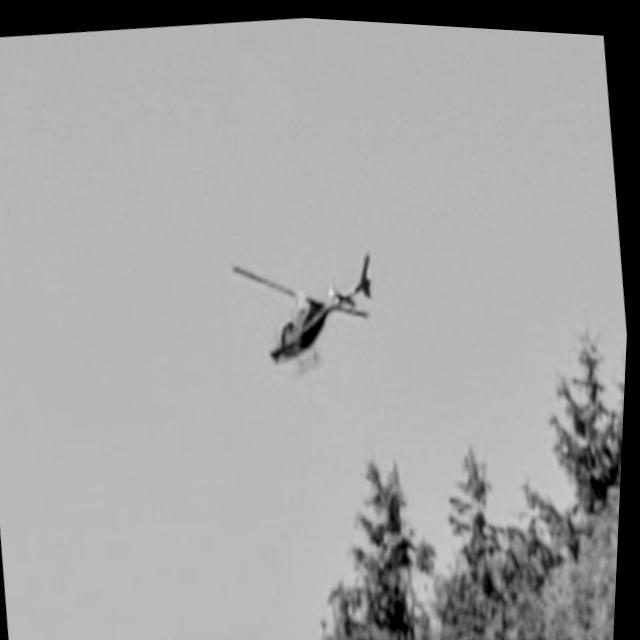helikopter: (193, 222, 401, 400)
